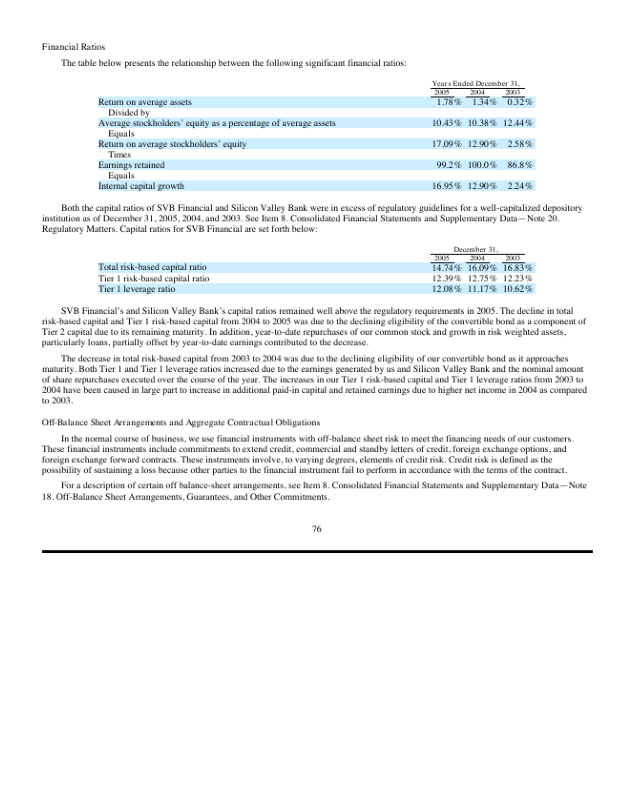table: (422, 76, 532, 195), (426, 243, 538, 295)
